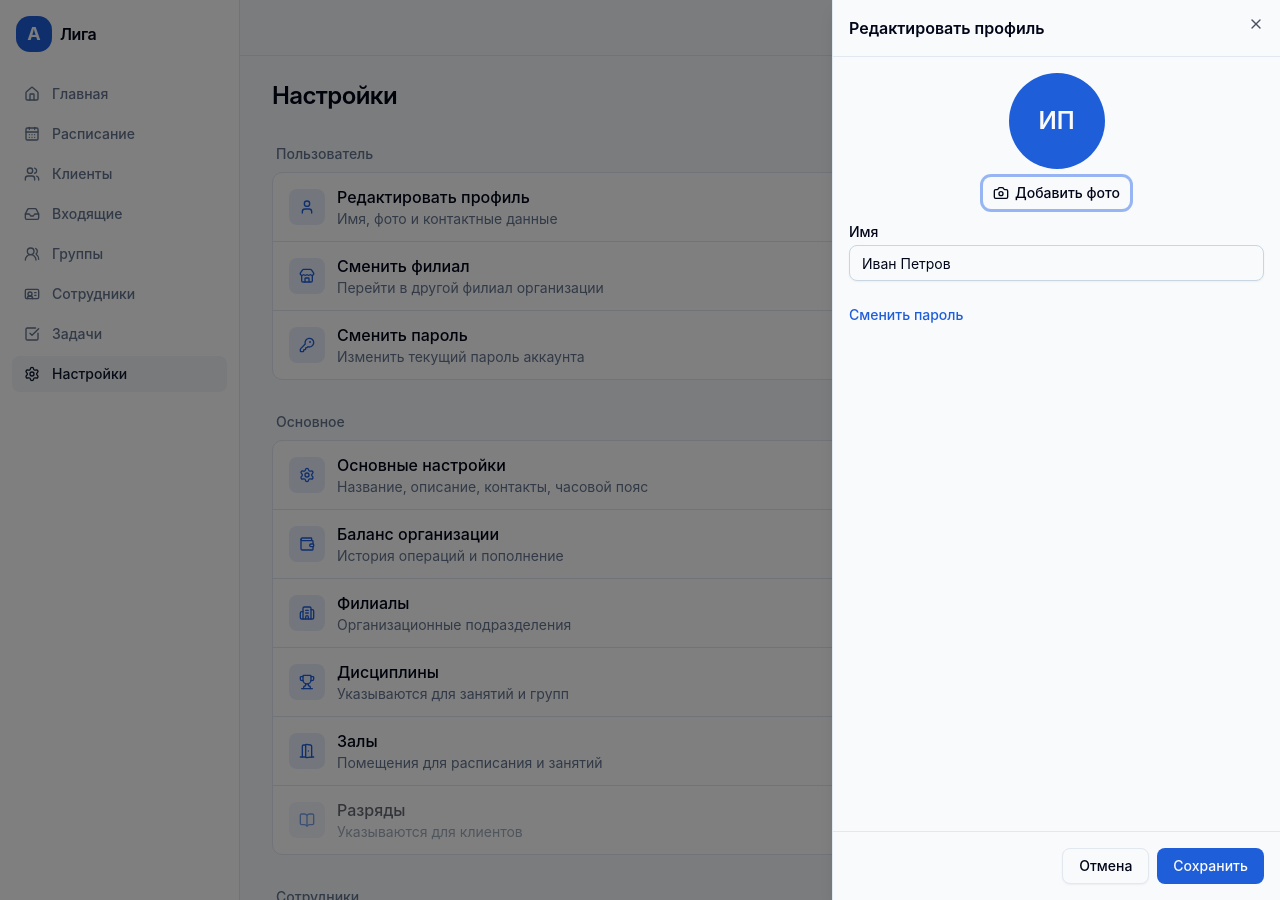
Test case: профиль › пустое имя не отправляется
The image size is (1280, 900).
Clear the field labelled "Имя": (1056, 263) [849,245,1264,281]
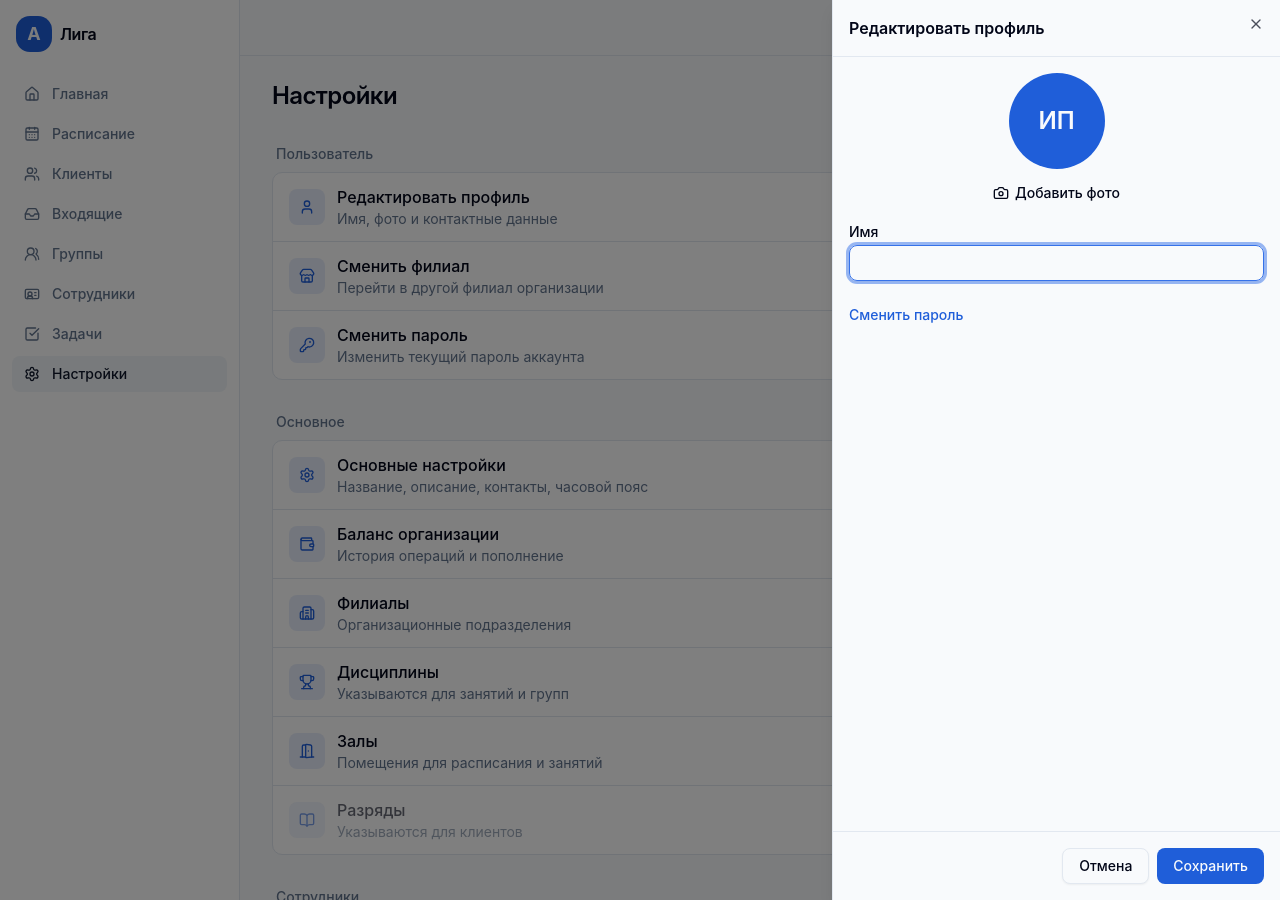
Click the button "Сохранить": (1211, 866) [1157,848,1264,884]
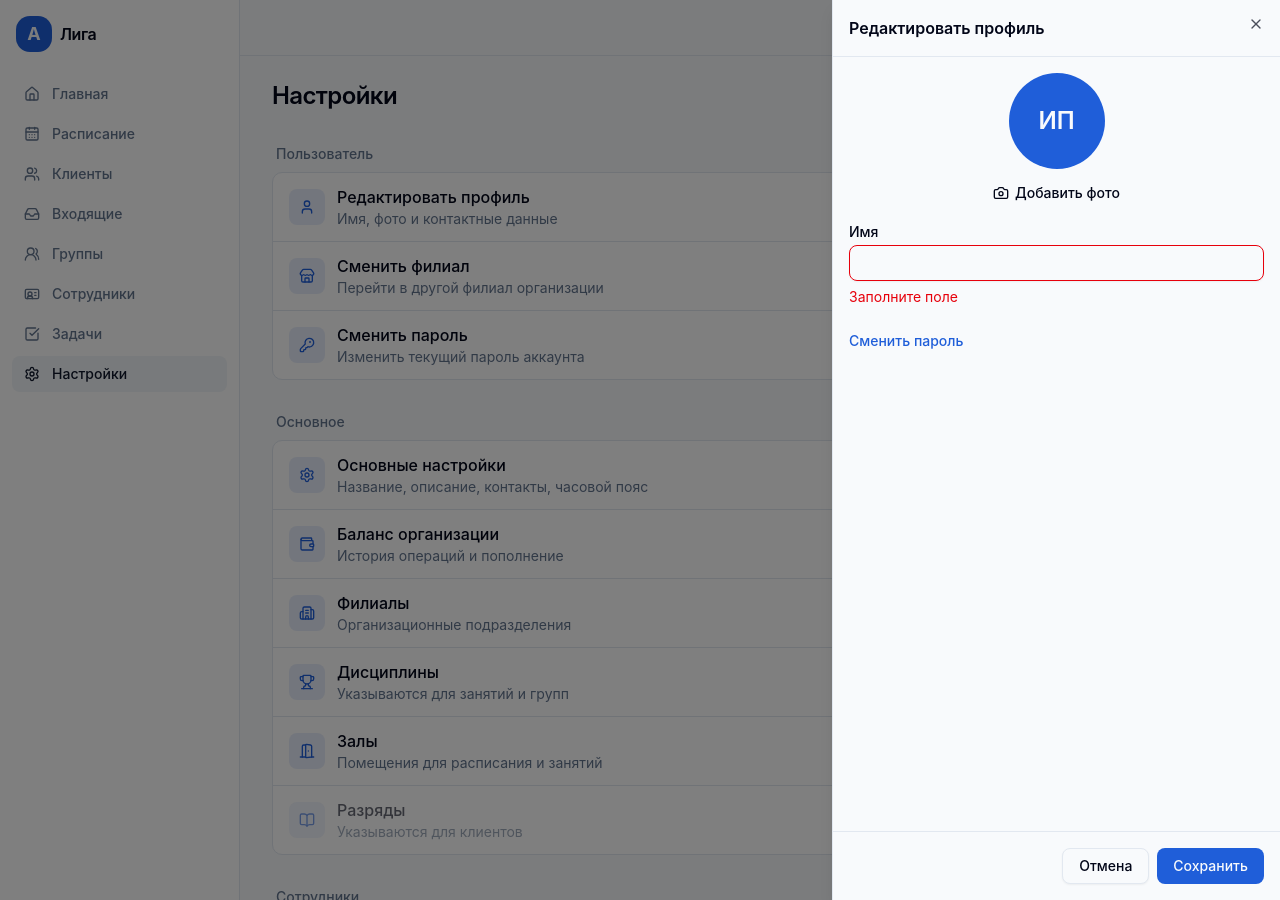
expect the text "Заполните поле" is shown: met, box [849,288,958,305]
